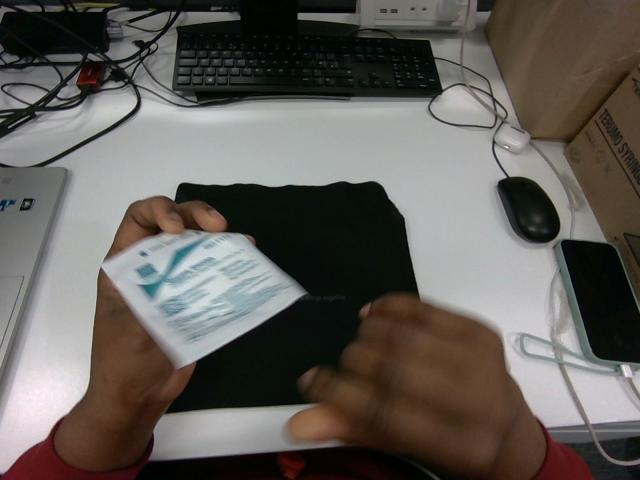gauze: (102, 230, 305, 367)
